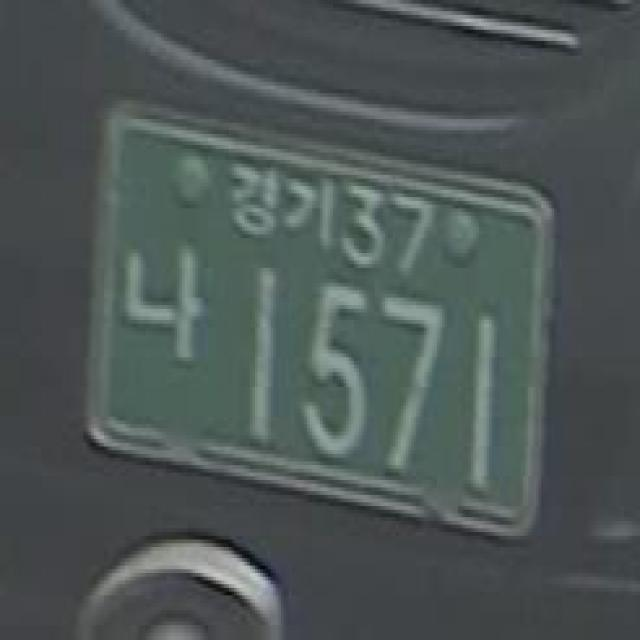illegal_plate: (80, 96, 574, 558)
